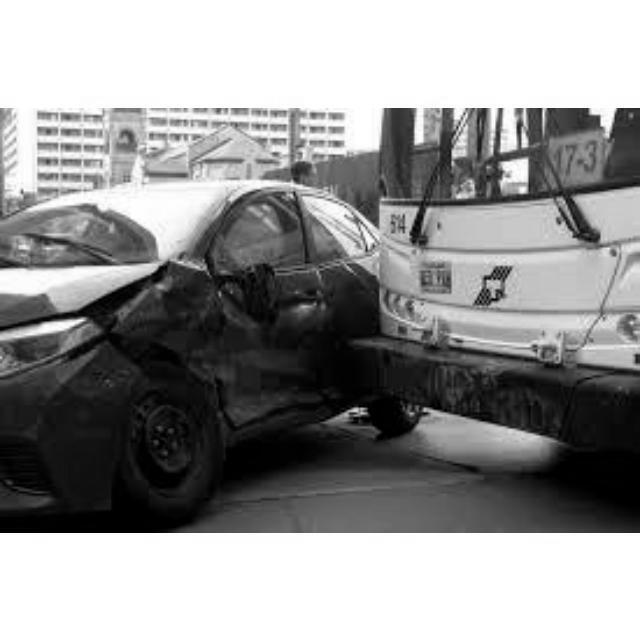doorouter-dent: (220, 238, 331, 412)
fender-dent: (121, 286, 211, 372)
